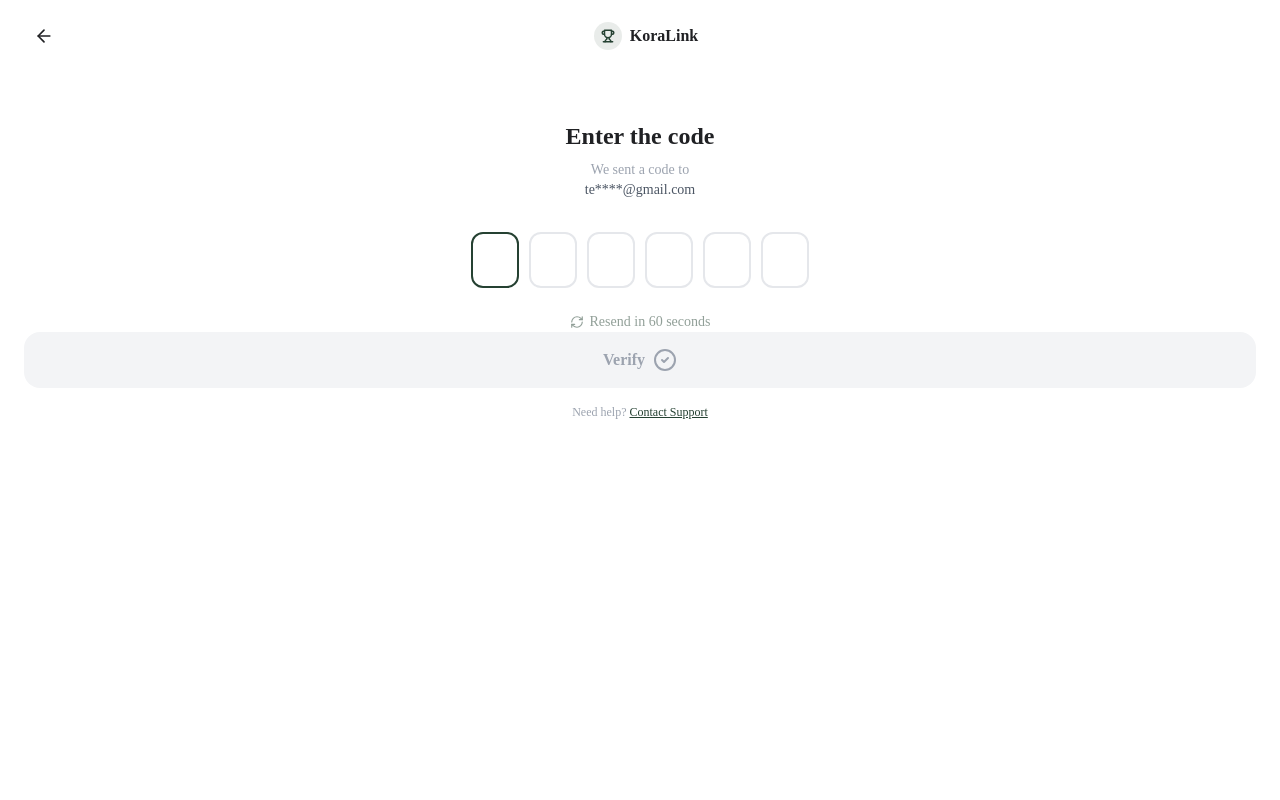
verify page — failure UX › clears the boxes and shows otpFailed copy on a 401
The image size is (1280, 800).
In the 1st field: (495, 260) [471,232,519,288], type "1"
In the 2nd field: (553, 260) [529,232,577,288], type "2"
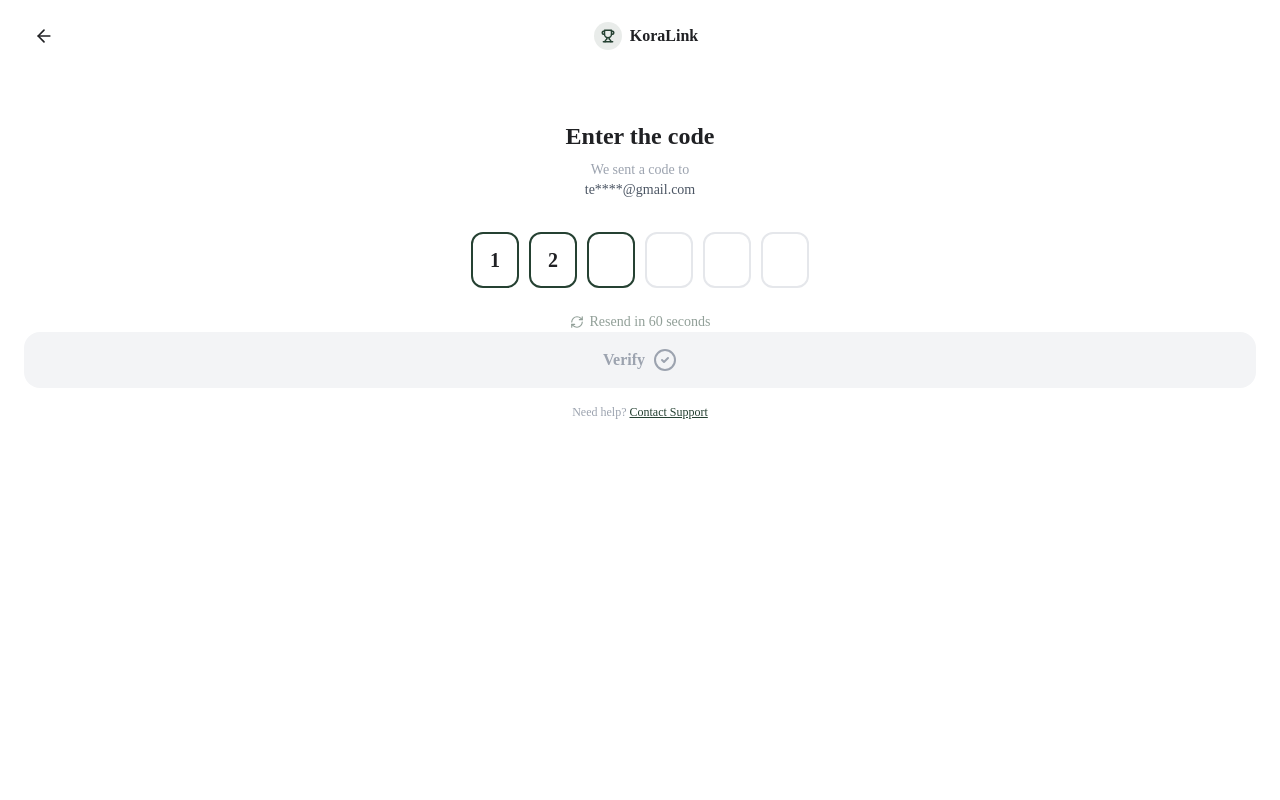
In the 3rd field: (611, 260) [587,232,635,288], type "3"
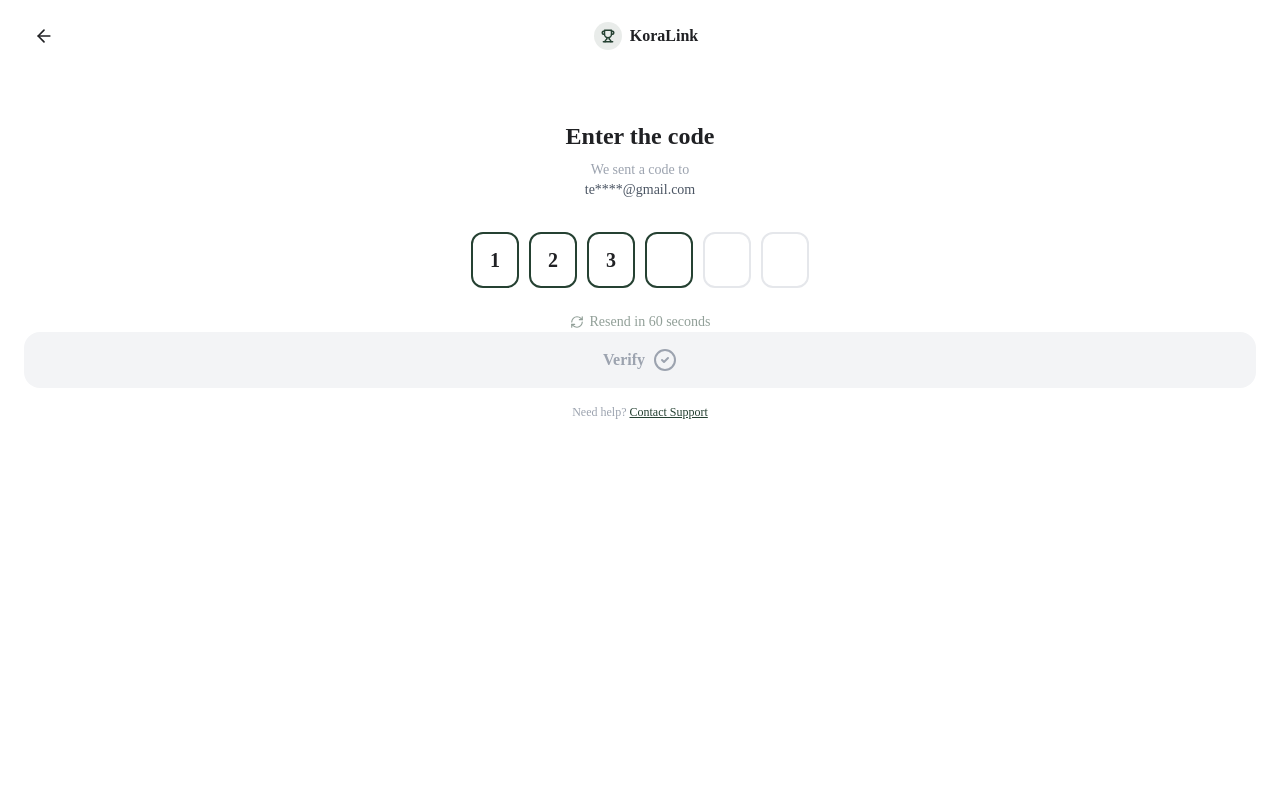
In the 4th field: (669, 260) [645,232,693,288], type "4"
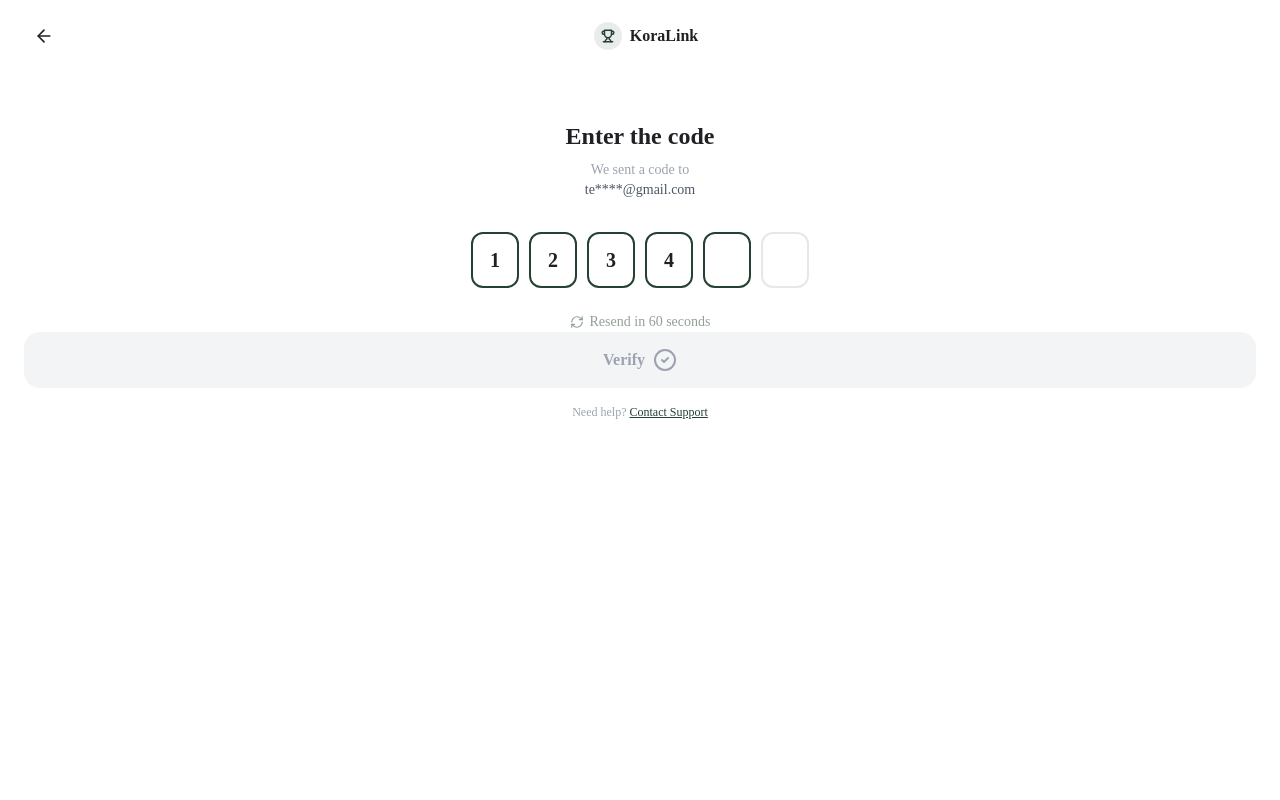
In the 5th field: (727, 260) [703,232,751,288], type "5"
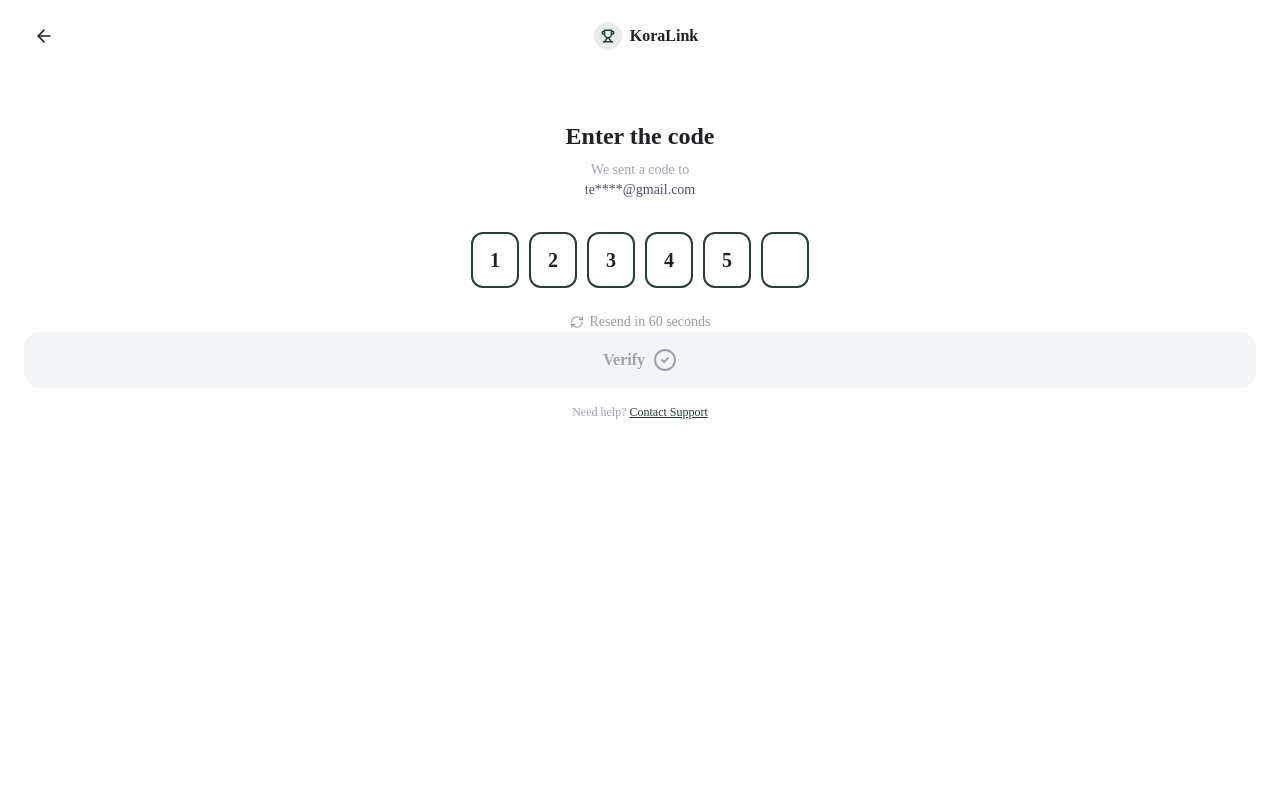
In the 6th field: (785, 260) [761,232,809,288], type "6"
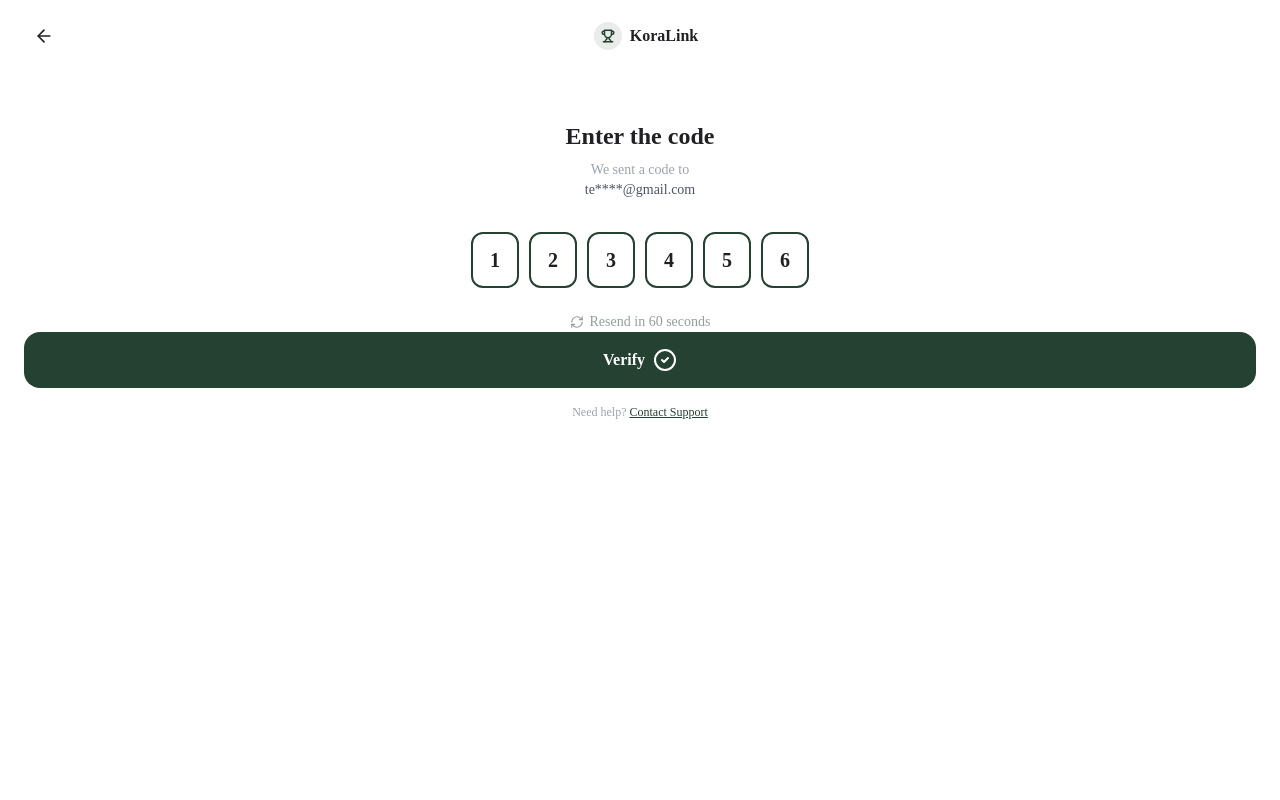
Click the button "Verify": (640, 360) [24,332,1256,388]
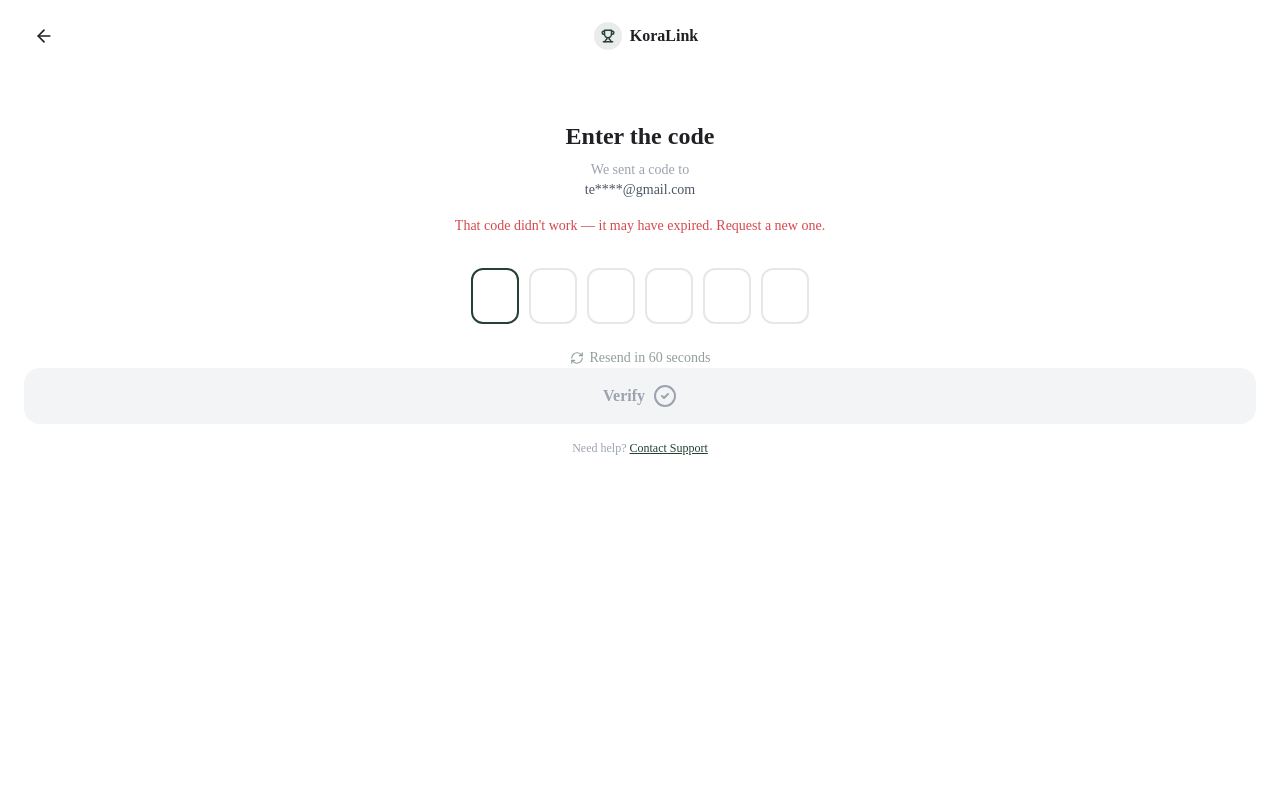
Now the text "That code didn't work — it may have expired. Request a new one." is shown, box [455,216,825,236]
